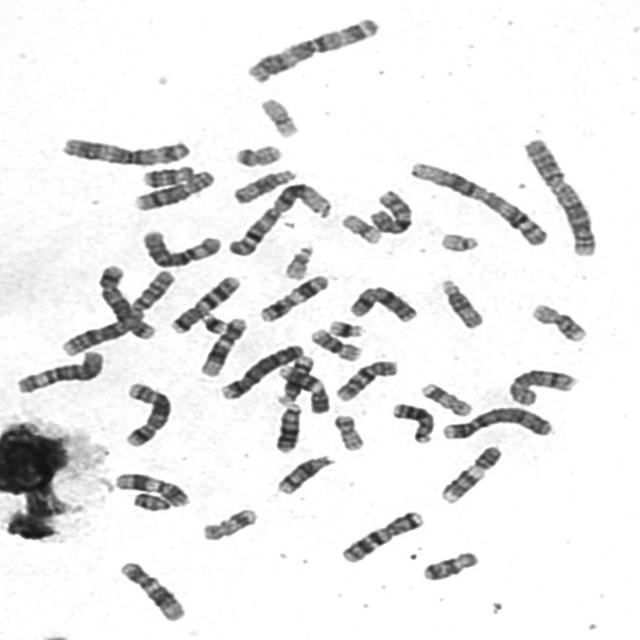A1: (405, 157, 552, 247), (224, 178, 336, 258)
A2: (56, 266, 178, 358), (519, 135, 599, 258)
A3: (242, 11, 384, 86), (57, 132, 194, 168)
B4: (218, 340, 308, 402), (439, 403, 555, 441)
B5: (94, 261, 157, 341), (120, 378, 175, 448)
C10: (332, 356, 401, 404), (366, 185, 415, 235)
C11: (255, 271, 331, 324), (112, 468, 194, 508)
C12: (115, 557, 189, 623), (196, 313, 248, 378)
C6: (12, 346, 106, 396), (138, 226, 224, 269)
C7: (336, 507, 426, 565), (166, 272, 243, 335)
C8: (130, 167, 218, 213), (505, 365, 579, 407)
C9: (437, 442, 505, 506), (274, 361, 332, 415)
D13: (388, 399, 437, 445), (272, 400, 304, 455)
D14: (273, 452, 338, 496), (274, 352, 317, 406)
D15: (437, 274, 487, 331), (229, 165, 299, 205)
E16: (527, 300, 591, 344), (306, 325, 365, 363)
E17: (198, 504, 260, 542), (417, 380, 474, 418)
E18: (419, 548, 481, 583), (139, 162, 197, 189)
F19: (256, 94, 303, 140), (337, 210, 385, 246)
F20: (330, 411, 367, 453), (230, 141, 284, 168)
G21: (325, 316, 367, 339), (196, 309, 228, 336)
G22: (280, 242, 316, 280), (436, 229, 482, 253)
X: (345, 282, 421, 324)
Y: (129, 490, 174, 512)
